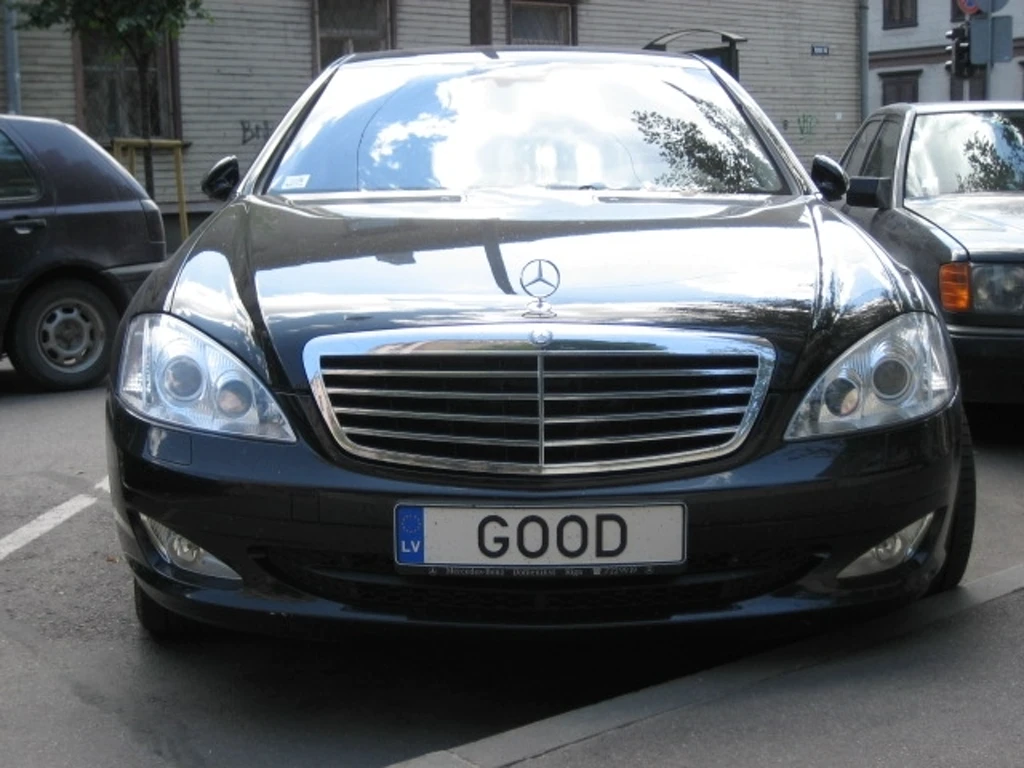licence-plate: (400, 508, 683, 567)
